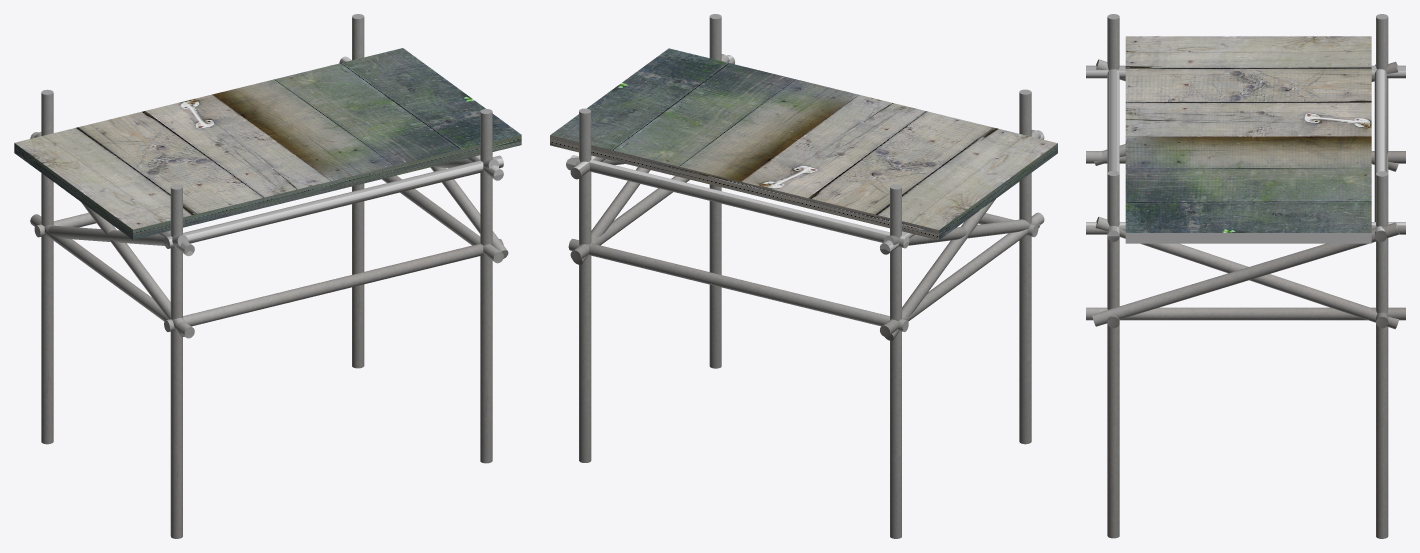
Rendered from Scaffolding_GroundLevel.fbx.
The picture shows the model from 3 angles, left to right: view 1: azimuth 30°, elevation 25°; view 2: azimuth 150°, elevation 25°; view 3: azimuth 270°, elevation 25°; orthographic projection. The views are drawn at different scales.
Visible parts, largest first — view 1: polySurface79; view 2: polySurface79; view 3: polySurface79.
Boxes of the visible parts, left/top/right/bottom form: polySurface79: left=14, top=14, right=521, bottom=538; polySurface79: left=550, top=14, right=1057, bottom=538; polySurface79: left=1086, top=14, right=1405, bottom=538.
Size of the model in its own units: 5.14 by 4.42 by 3.53.
